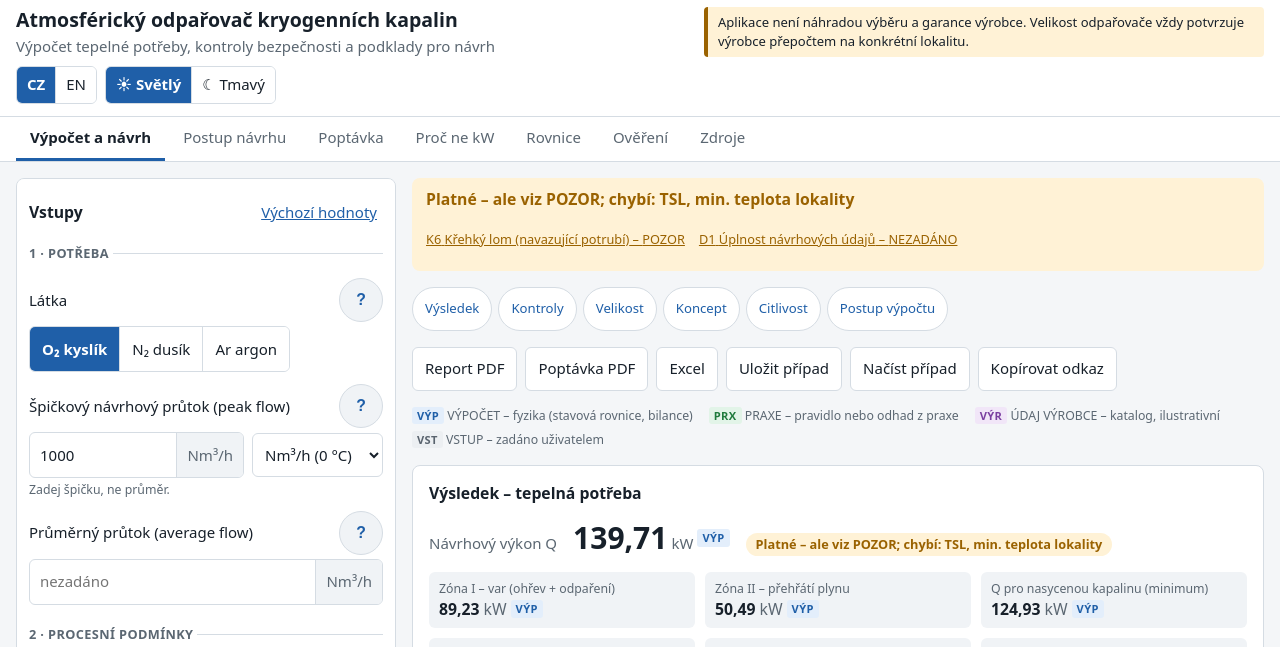
Test: argon v UI › poptávka: skupina 2 (argon), běžná čistota; postup: argon je těžší než vzduch
This screenshot has width=1280, height=647.
Click the radio button labelled "Ar argon".
click(246, 350)  # box x1=203 y1=328 x2=289 y2=372
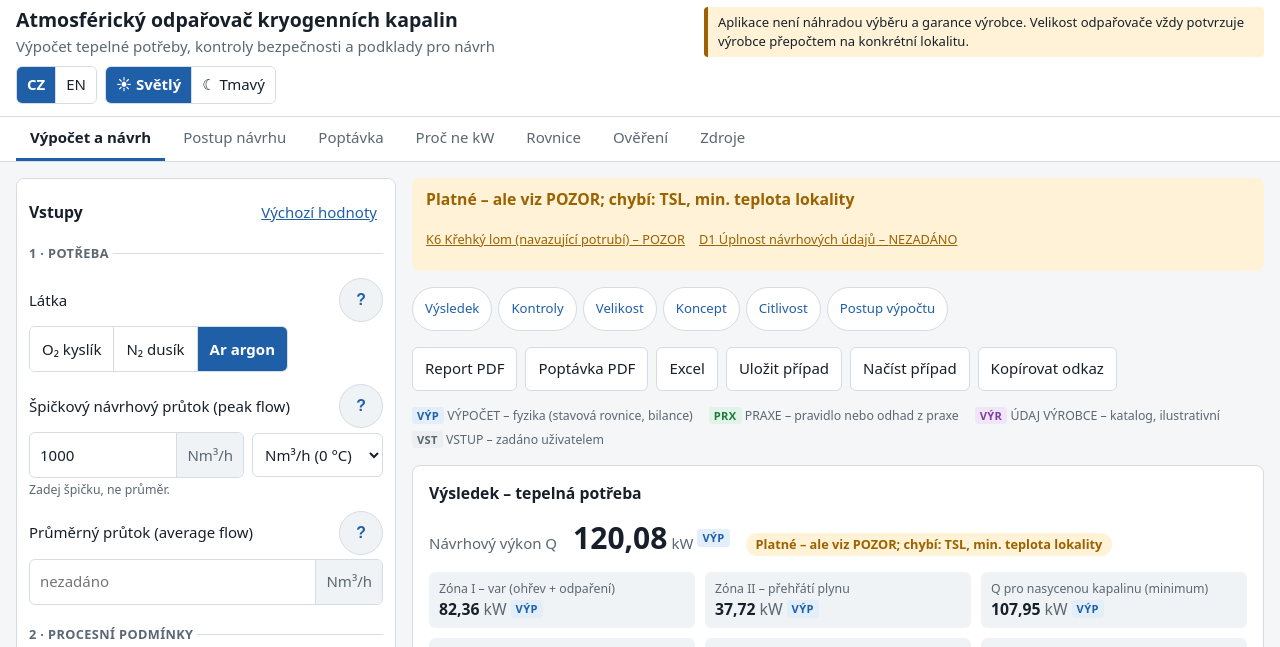
Click the button "Poptávka".
click(351, 139)  # box x1=304 y1=117 x2=398 y2=161
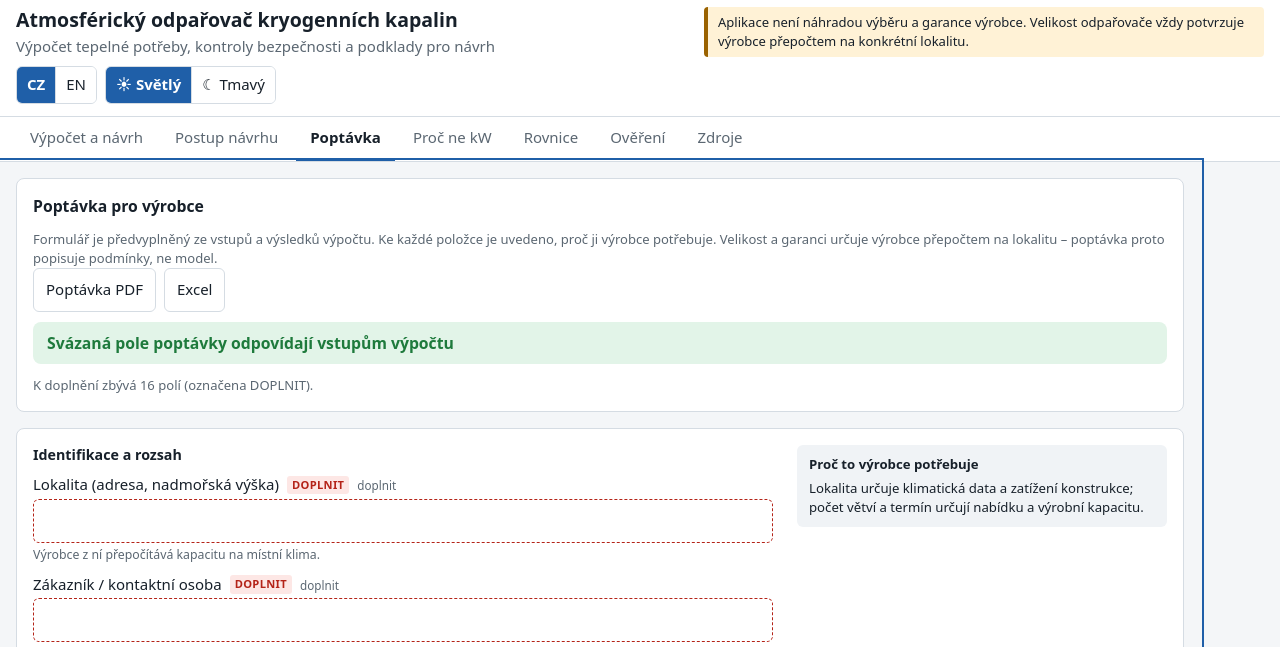
Click the button "Postup návrhu".
click(227, 139)  # box x1=161 y1=117 x2=292 y2=161
(page scrolled)
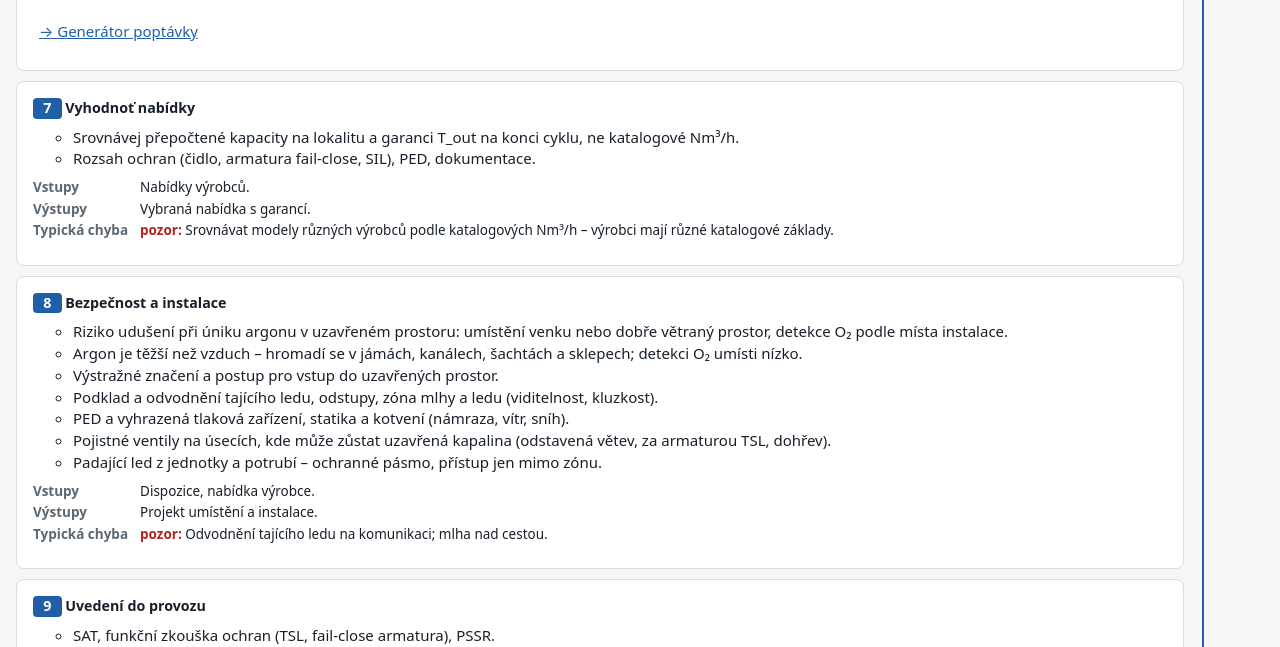
Result: the list item "Argon je těžší než vzduch" is shown at x1=73 y1=343 x2=803 y2=363
